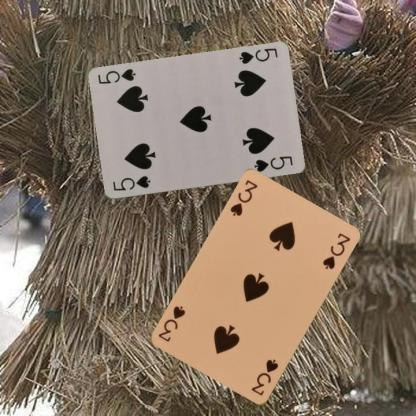3s: (226, 177, 260, 218), (249, 356, 280, 398)
5s: (235, 46, 280, 66), (110, 174, 152, 192)
